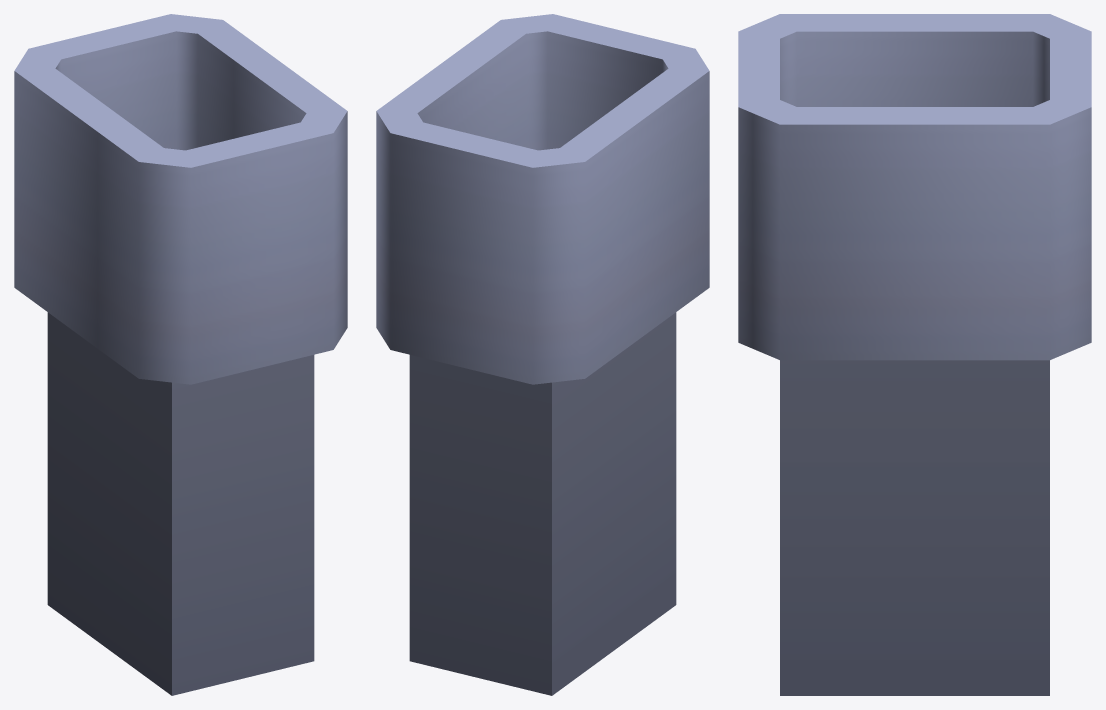
File: kenney-fantasy-town-chimney-top.glb
The picture shows the model from 3 angles, left to right: view 1: azimuth 30°, elevation 25°; view 2: azimuth 150°, elevation 25°; view 3: azimuth 270°, elevation 25°; orthographic projection. The views are drawn at different scales.
Visible parts, largest first — view 1: chimney-top; view 2: chimney-top; view 3: chimney-top.
Boxes of the visible parts, box(x1,y1,x2,y2) form: chimney-top: box(14, 14, 347, 695); chimney-top: box(376, 14, 709, 695); chimney-top: box(738, 14, 1091, 695).
Size of the model in its own units: 0.2519 by 0.625 by 0.34.
1 material, 1 textured.
